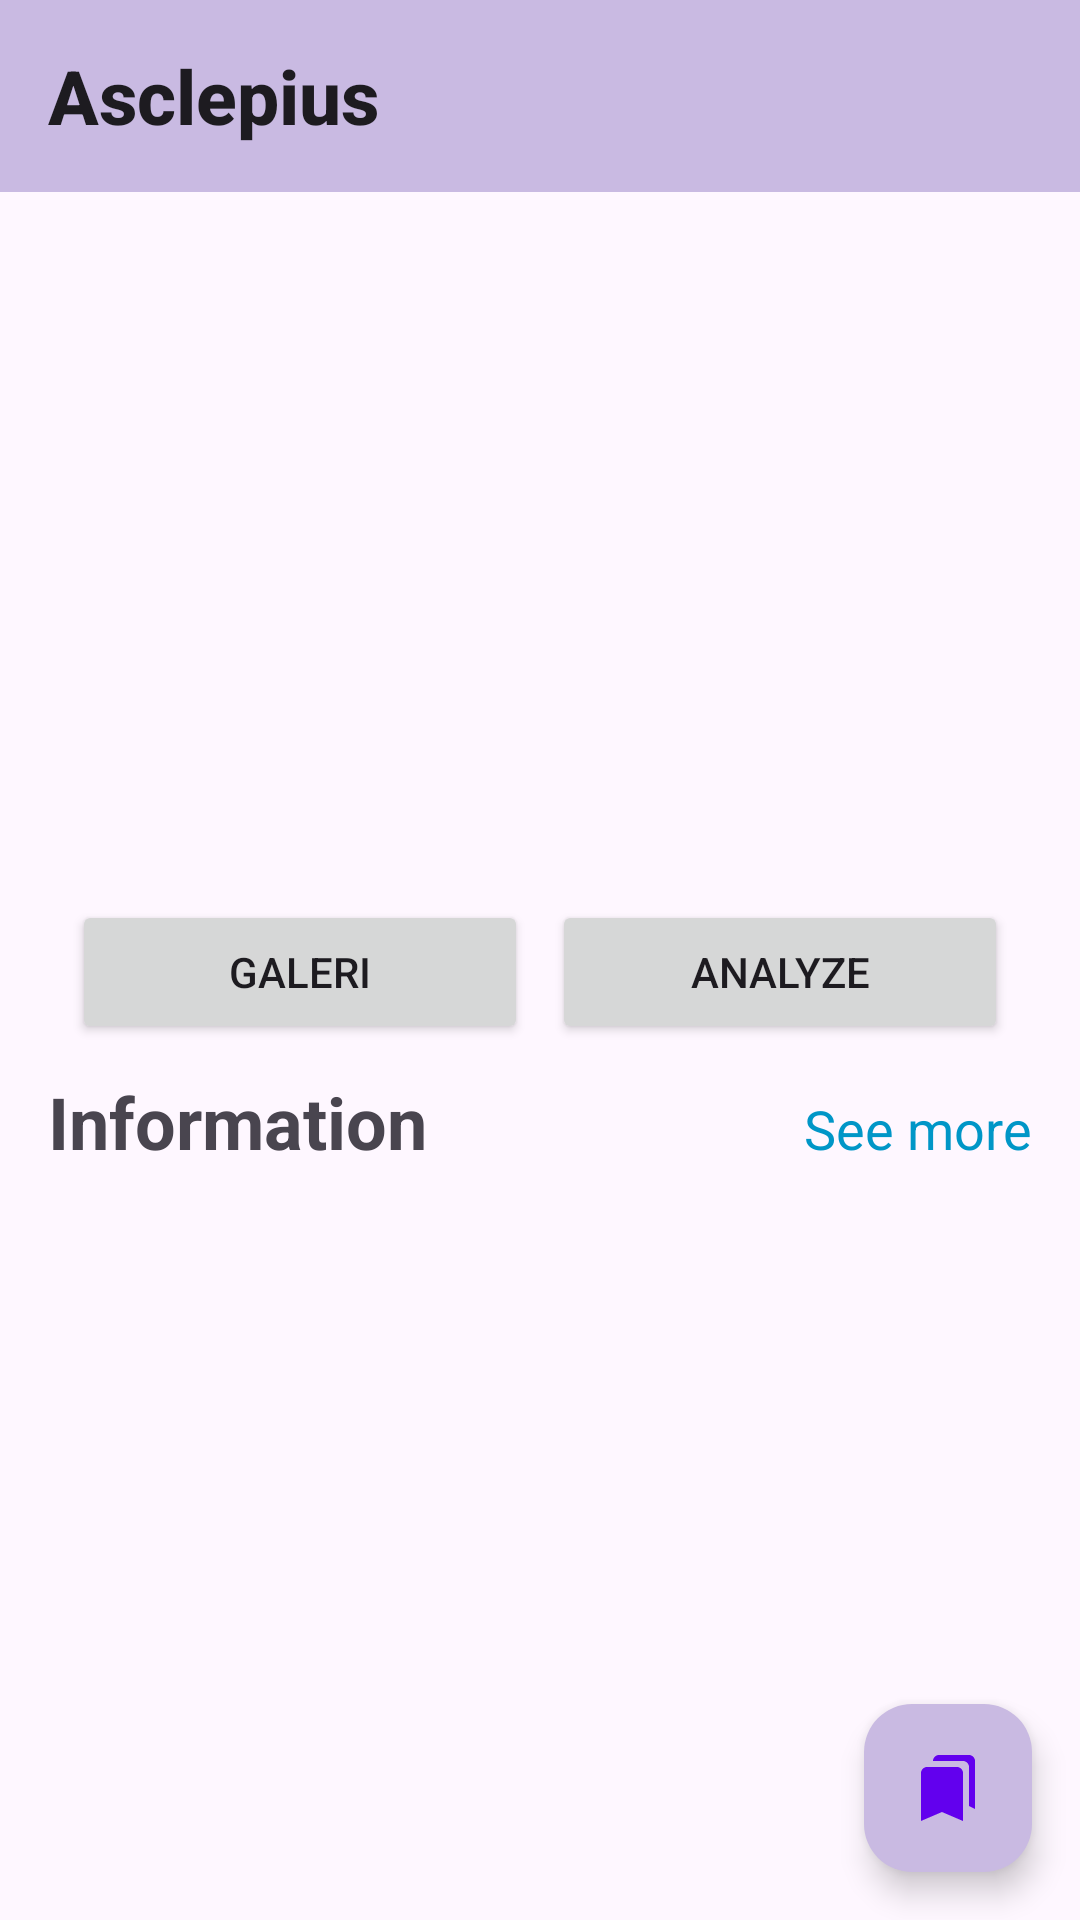

Named icons in this screenshot (1080px x 1920px) and their centers, [x,y]:
bookmarks: [948,1788]
